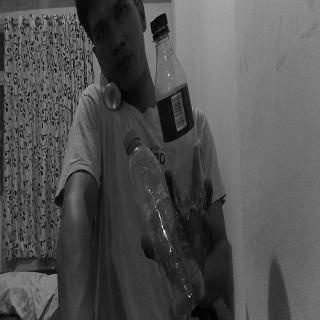plastic_bottles: (122, 126, 207, 320), (150, 9, 208, 223)
